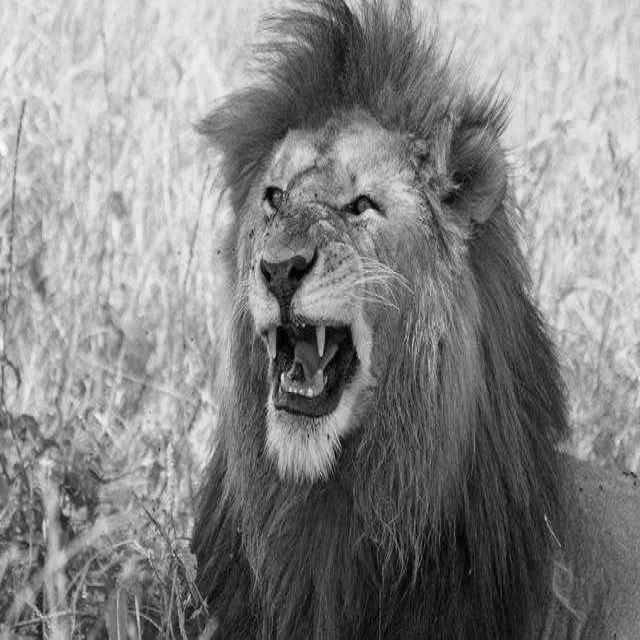Lion: (187, 41, 503, 640)
